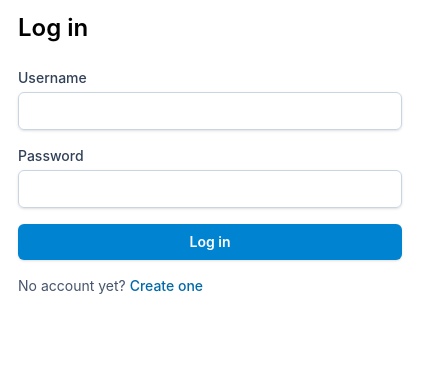
authentication pages › shows the server error for bad credentials
Type "ash" into the field labelled "Username".
click(210, 111); type("ash")  # box left=18, top=92, right=402, bottom=130
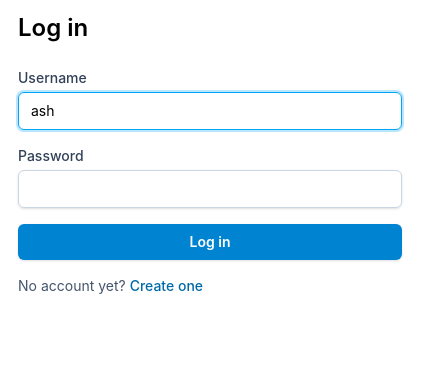
Type "WrongPass1!" into the password field labelled "Password".
click(210, 189); type("WrongPass1!")  # box left=18, top=170, right=402, bottom=208
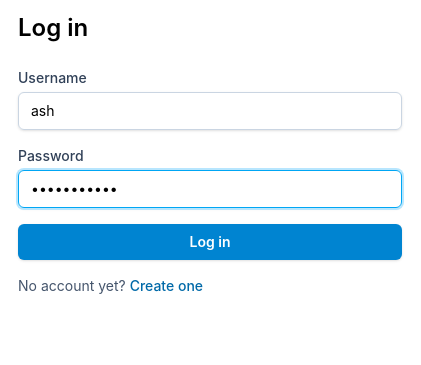
Click the button "Log in".
click(210, 242)  # box left=18, top=224, right=402, bottom=260
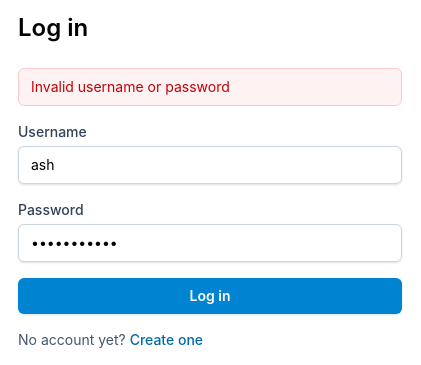
Now the message reads "Invalid username or password", box left=31, top=78, right=230, bottom=95
